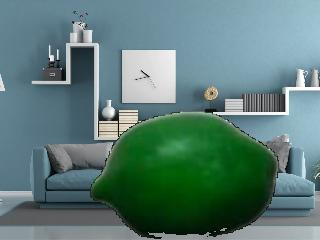lime: (84, 103, 282, 240)
